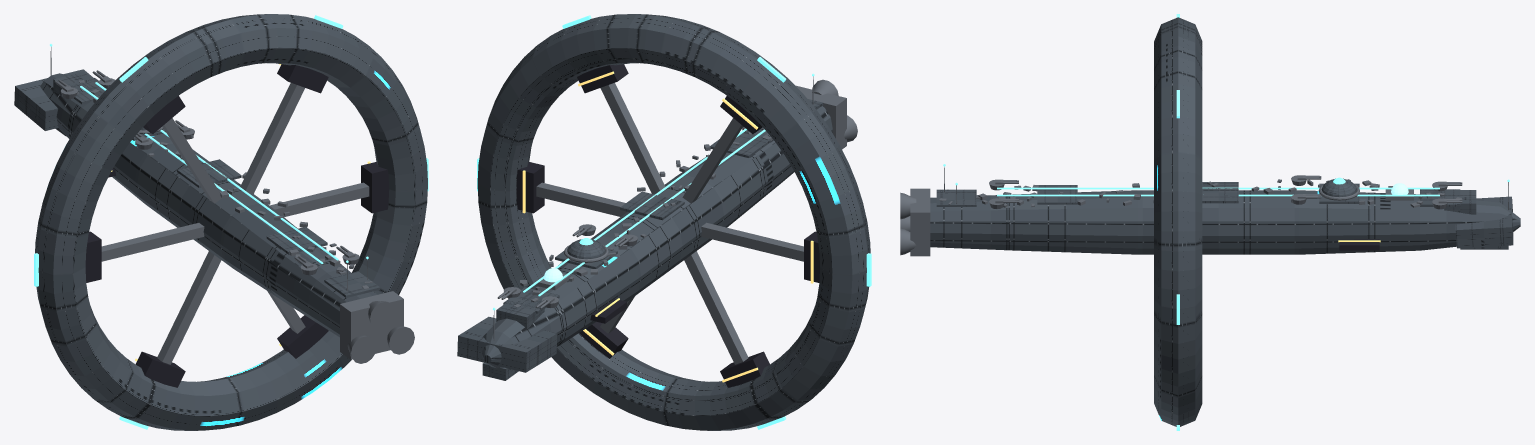
The model's file is meridian.glb.
3 views of the same model, side by side, from view 1: azimuth 30°, elevation 25°; view 2: azimuth 150°, elevation 25°; view 3: azimuth 270°, elevation 25° (orthographic). The views are drawn at different scales.
Parts seen in each view (by area): view 1: Ring, Spine, RingSpokes, RingHangars, EngineBlock, ArmorPlates, Prow, Greebles, EnergyStrips, TurretBases, RingLights; view 2: Ring, Spine, RingSpokes, RingHangars, Prow, ArmorPlates, EngineBlock, Greebles, EnergyStrips, RingHangarRims, RingLights, ShieldDome (+2 smaller); view 3: Spine, Ring, ArmorPlates, Prow, EngineBlock, EnergyStrips, Greebles, TurretBases.
Boxes of the visible parts, left/top/right/bottom form: Ring: left=35, top=14, right=427, bottom=430; Spine: left=40, top=73, right=377, bottom=337; RingSpokes: left=101, top=83, right=369, bottom=364; RingHangars: left=85, top=64, right=389, bottom=387; EngineBlock: left=340, top=291, right=414, bottom=363; ArmorPlates: left=60, top=78, right=380, bottom=297; Prow: left=14, top=69, right=99, bottom=136; Greebles: left=76, top=80, right=372, bottom=289; EnergyStrips: left=80, top=82, right=338, bottom=263; TurretBases: left=61, top=78, right=359, bottom=275; RingLights: left=34, top=15, right=428, bottom=429; Ring: left=477, top=14, right=870, bottom=430; Spine: left=482, top=106, right=832, bottom=369; RingSpokes: left=536, top=82, right=803, bottom=364; RingHangars: left=516, top=64, right=819, bottom=387; Prow: left=457, top=297, right=557, bottom=380; ArmorPlates: left=503, top=99, right=823, bottom=313; EngineBlock: left=795, top=79, right=857, bottom=149; Greebles: left=513, top=126, right=772, bottom=307; EnergyStrips: left=523, top=128, right=765, bottom=296; RingHangarRims: left=522, top=71, right=813, bottom=382; RingLights: left=477, top=15, right=871, bottom=429; ShieldDome: left=567, top=239, right=605, bottom=259; Spine: left=930, top=190, right=1520, bottom=254; Ring: left=1154, top=17, right=1202, bottom=426; ArmorPlates: left=936, top=182, right=1460, bottom=206; Prow: left=1444, top=190, right=1513, bottom=249; EngineBlock: left=900, top=188, right=930, bottom=256; EnergyStrips: left=997, top=187, right=1439, bottom=196; Greebles: left=939, top=179, right=1461, bottom=207; TurretBases: left=989, top=175, right=1447, bottom=209.
Size of the model in its own units: 103 by 102 by 154.
Materials: 7 (2 with a texture image).
